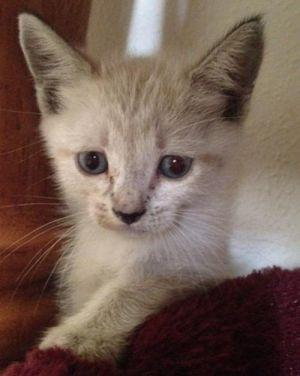siamese: (13, 2, 274, 266)
